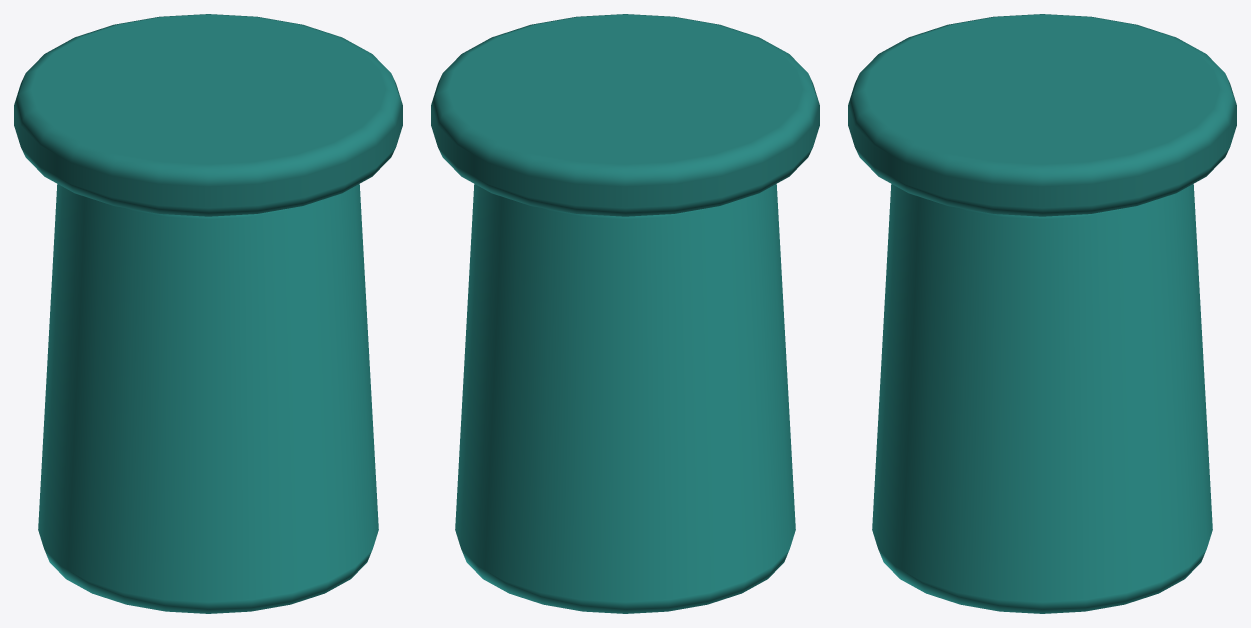
Rendered from bin.glb.
3 views of the same model, side by side, from view 1: azimuth 30°, elevation 25°; view 2: azimuth 150°, elevation 25°; view 3: azimuth 270°, elevation 25° (orthographic).
Visible parts, largest first — view 1: bin; view 2: bin; view 3: bin.
Part boxes in pixels (left/top/right/bottom): bin: left=14, top=14, right=402, bottom=613; bin: left=431, top=14, right=819, bottom=613; bin: left=848, top=14, right=1236, bottom=613.
Size of the model in its own units: 0.34 by 0.445 by 0.34.
